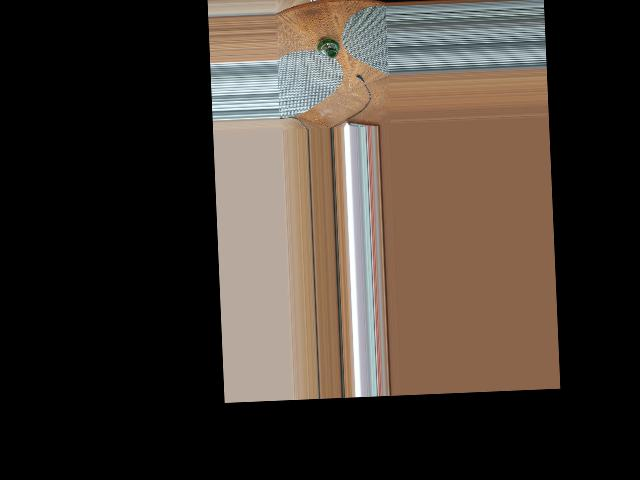beer: (316, 36, 339, 58)
